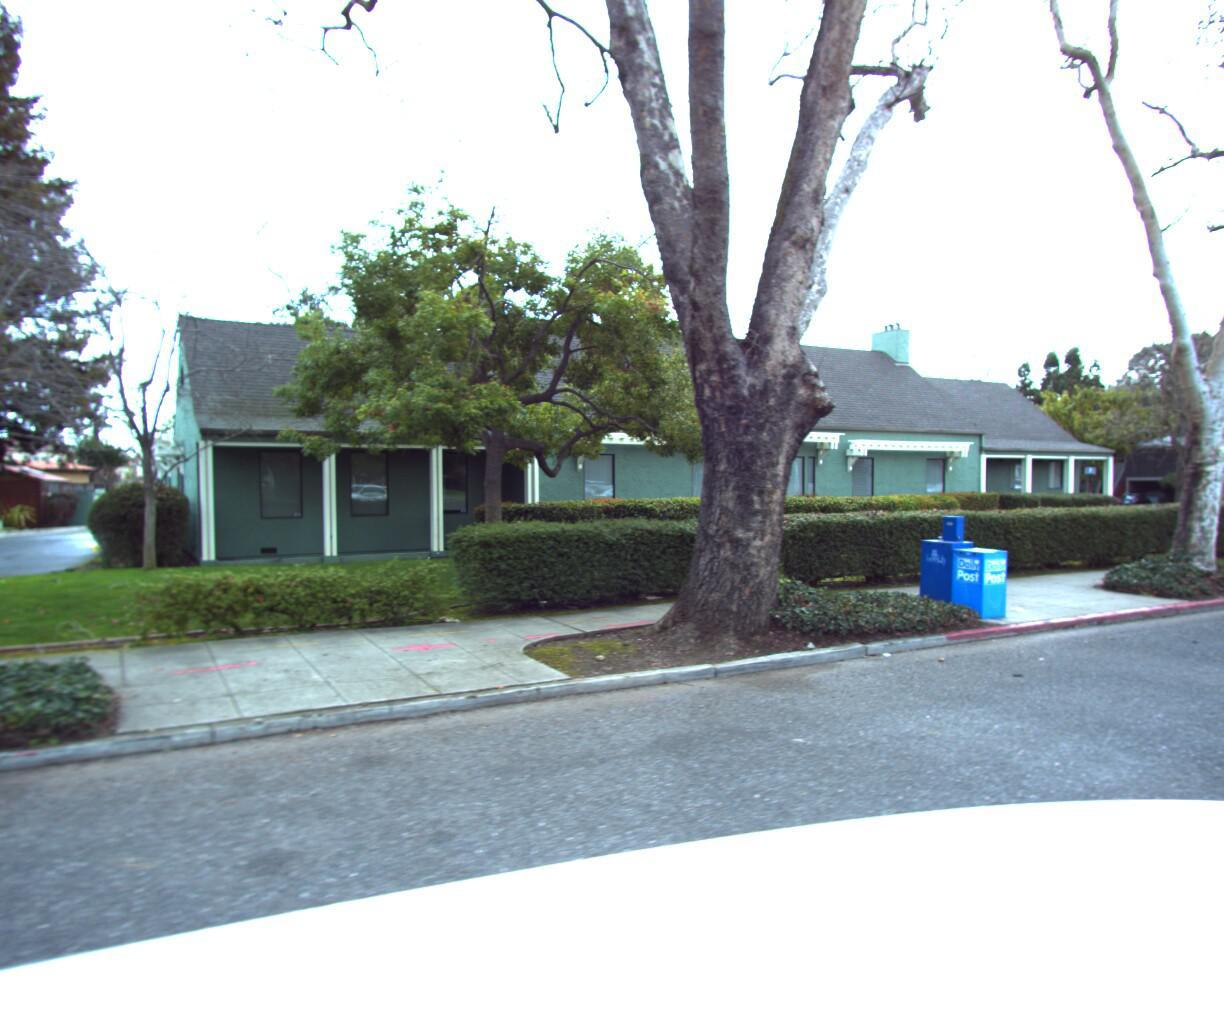car: (1116, 486, 1160, 508)
